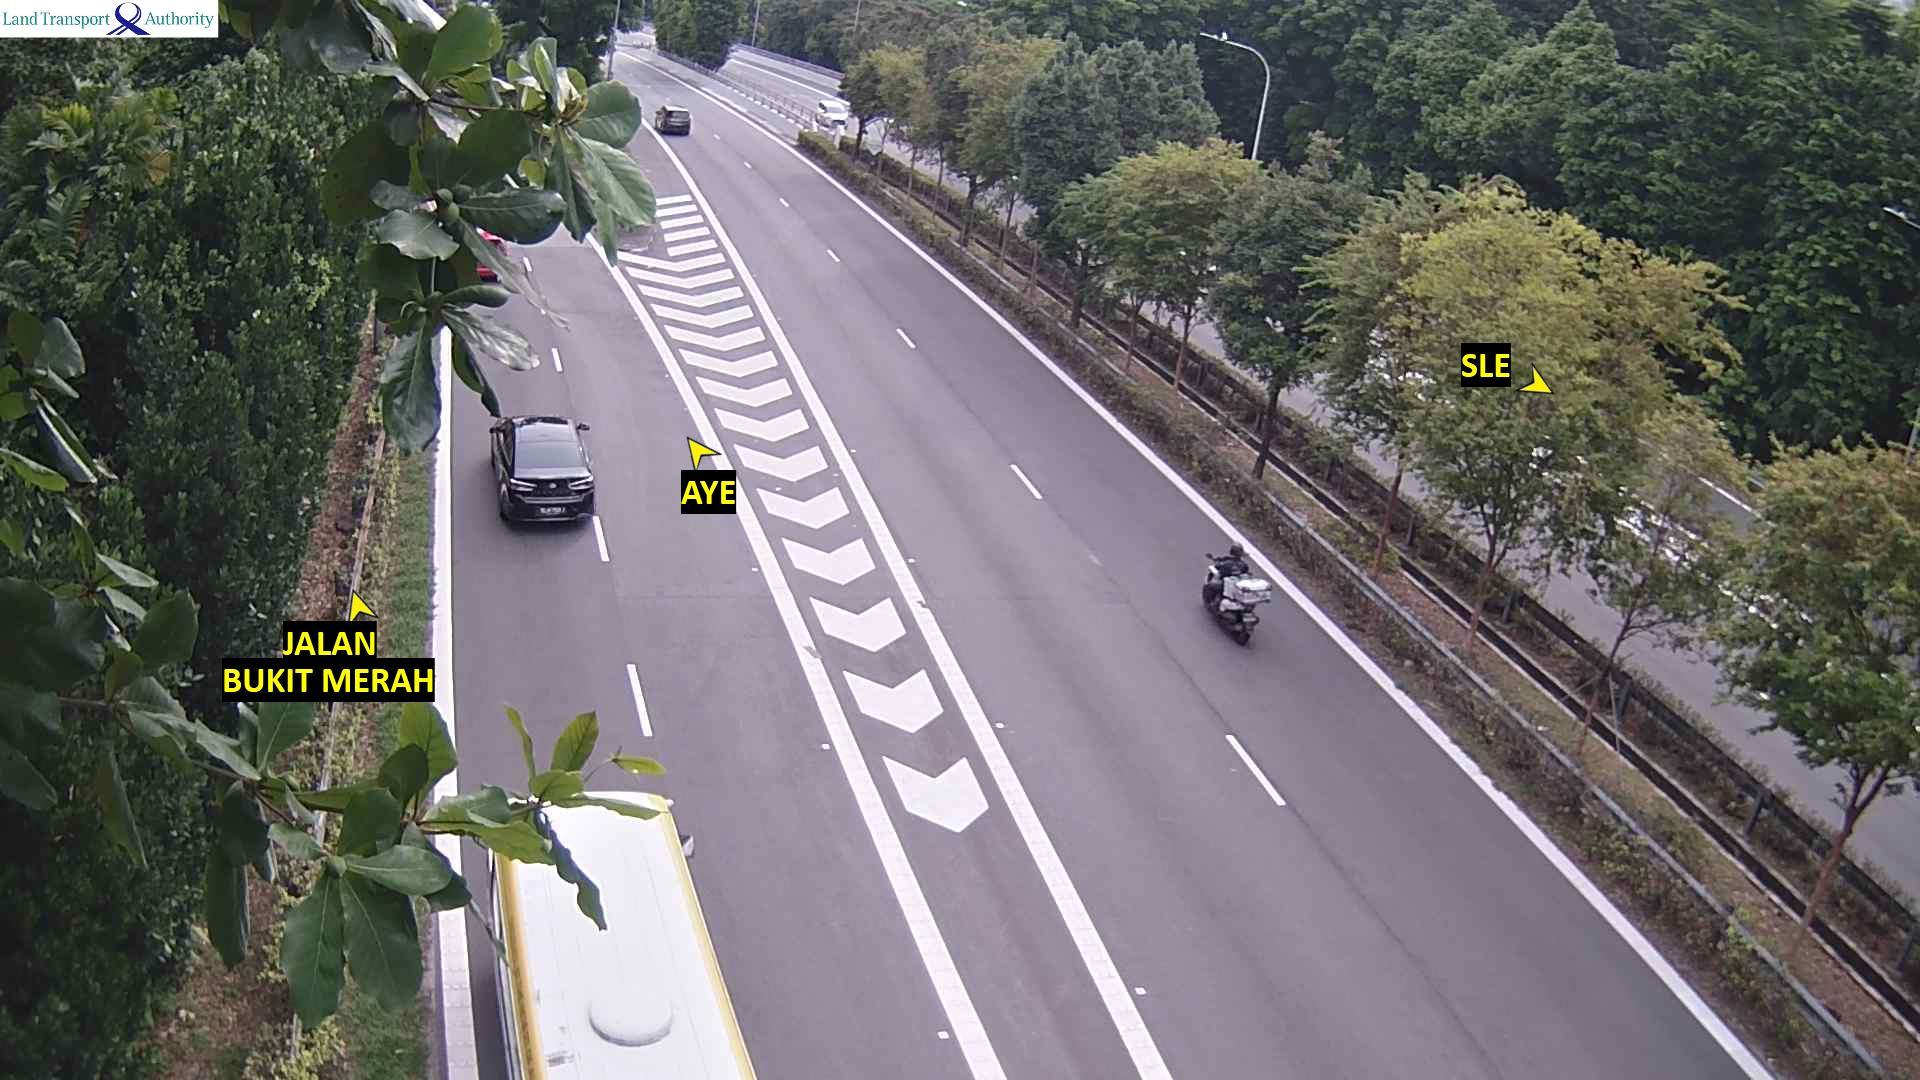cars: (487, 411, 595, 526), (473, 225, 505, 282), (653, 102, 691, 135), (815, 98, 848, 128)
motorcycle: (1200, 550, 1273, 646)
